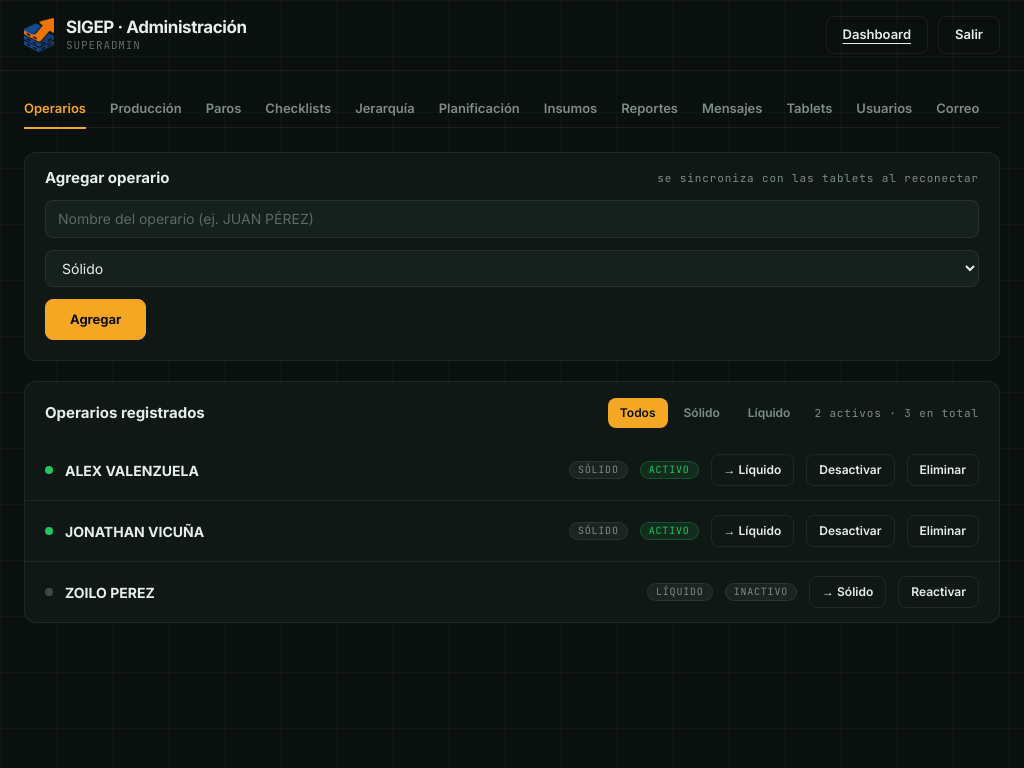
Operarios: el filtro por línea separa sólido de líquido
Expected: the text "ALEX VALENZUELA" is shown, x1=65 y1=462 x2=199 y2=479
Expected: the text "2 activos · 3 en total" is shown, x1=814 y1=405 x2=979 y2=422
Click the tab "Líquido": point(769, 413) x1=736 y1=398 x2=802 y2=428
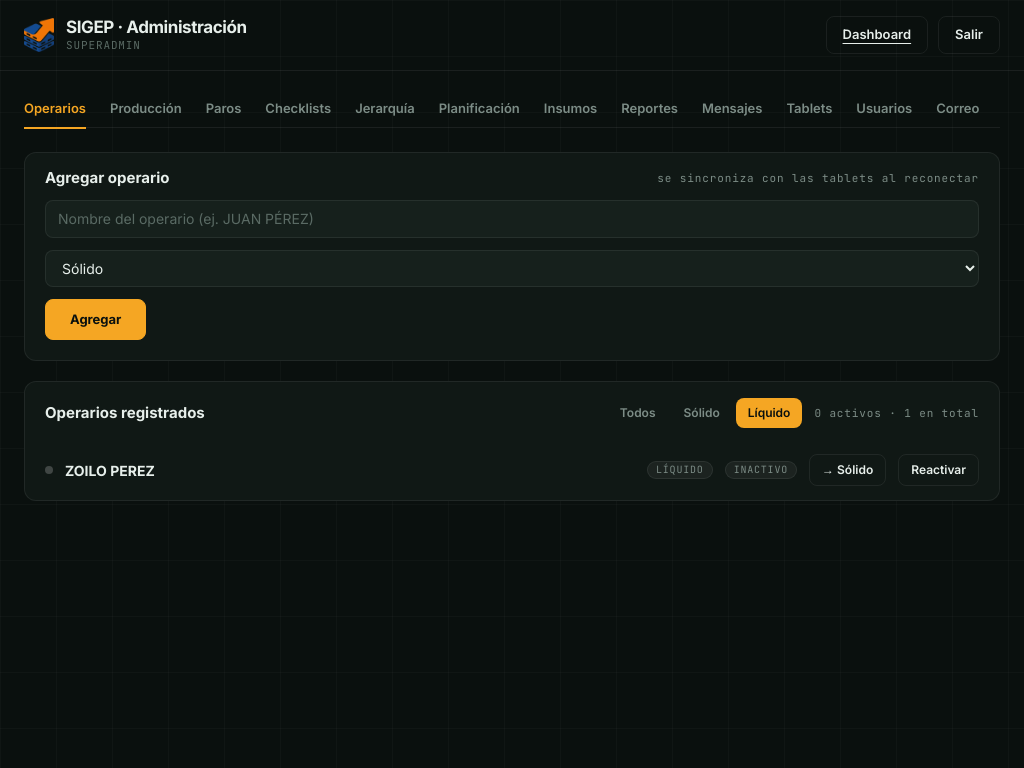
Expected: the text "ZOILO PEREZ" is shown, x1=65 y1=462 x2=155 y2=479
Result: the text "ALEX VALENZUELA" is gone
Result: the text "0 activos · 1 en total" is shown at x1=814 y1=405 x2=979 y2=422
Click the tab "Sólido": point(702, 413) x1=672 y1=398 x2=732 y2=428
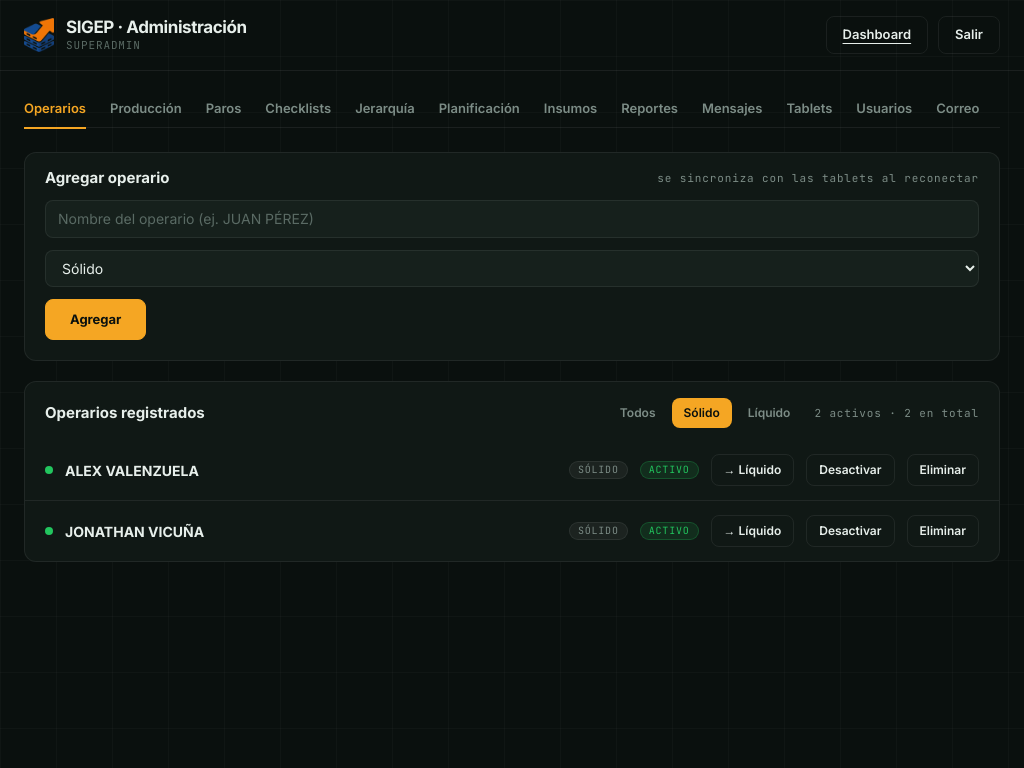
Result: the text "ALEX VALENZUELA" is shown at x1=65 y1=462 x2=199 y2=479
Result: the text "ZOILO PEREZ" is gone
Result: the text "2 activos · 2 en total" is shown at x1=814 y1=405 x2=979 y2=422
